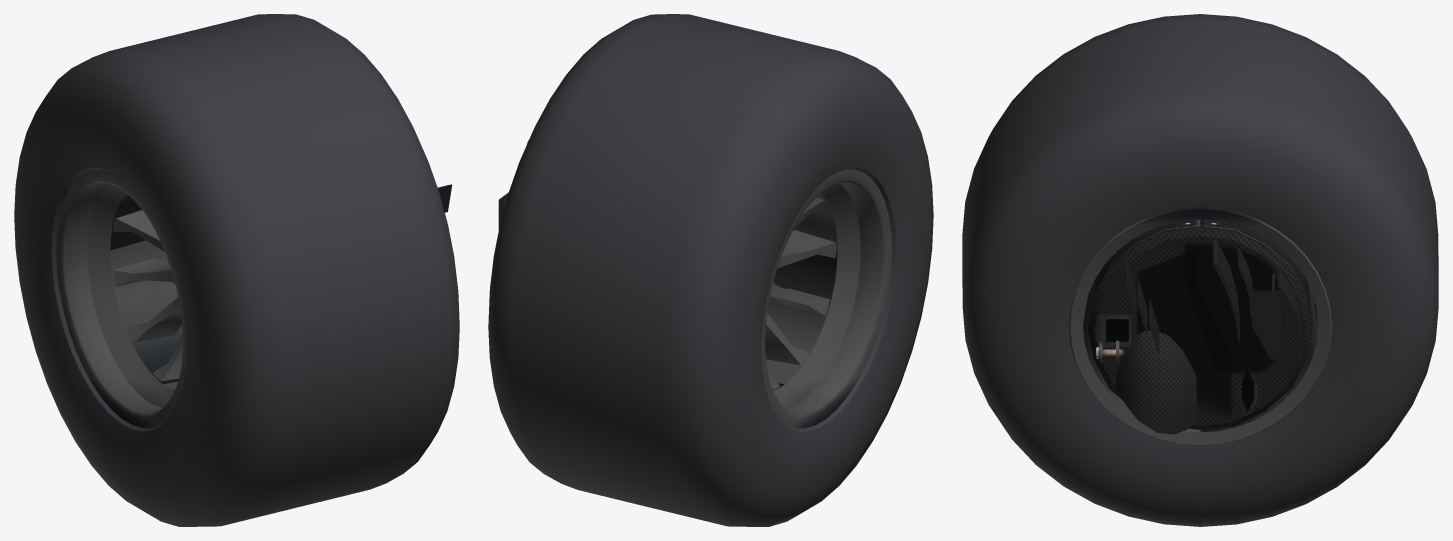
Rendered from front_left.obj.
3 views of the same model, side by side, from view 1: azimuth 30°, elevation 25°; view 2: azimuth 150°, elevation 25°; view 3: azimuth 270°, elevation 25° (orthographic). The views are drawn at different scales.
Parts seen in each view (by area): view 1: object__50_003-mesh, object__49_003-mesh, object__18_003-mesh; view 2: object__50_003-mesh, object__49_003-mesh, object__18_003-mesh; view 3: object__49_003-mesh, object__50_003-mesh, object__28_003-mesh, object__18_003-mesh.
Boxes of the visible parts, left/top/right/bottom form: object__50_003-mesh: left=38, top=14, right=459, bottom=526; object__49_003-mesh: left=14, top=79, right=458, bottom=516; object__18_003-mesh: left=56, top=169, right=186, bottom=428; object__50_003-mesh: left=488, top=14, right=911, bottom=526; object__49_003-mesh: left=489, top=79, right=933, bottom=516; object__18_003-mesh: left=761, top=169, right=891, bottom=428; object__49_003-mesh: left=979, top=122, right=1421, bottom=522; object__50_003-mesh: left=962, top=14, right=1438, bottom=526; object__28_003-mesh: left=1087, top=219, right=1313, bottom=434; object__18_003-mesh: left=1069, top=207, right=1332, bottom=445.
Bounding box in the file's own units: 4.53 × 6.4 × 6.4.
Materials: 4 (4 with a texture image).
